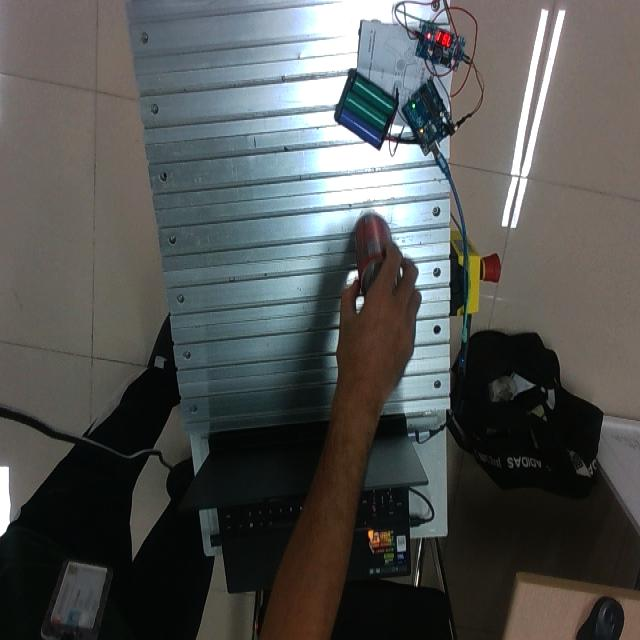coca: (353, 214, 394, 298)
